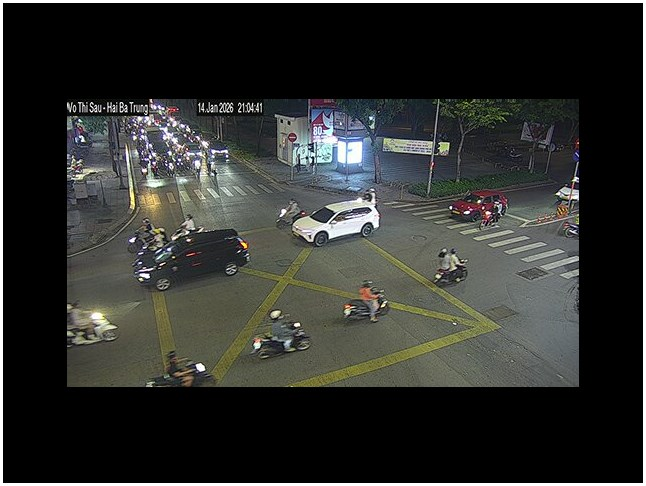car: (132, 228, 251, 292), (291, 200, 382, 247), (449, 190, 509, 220)
